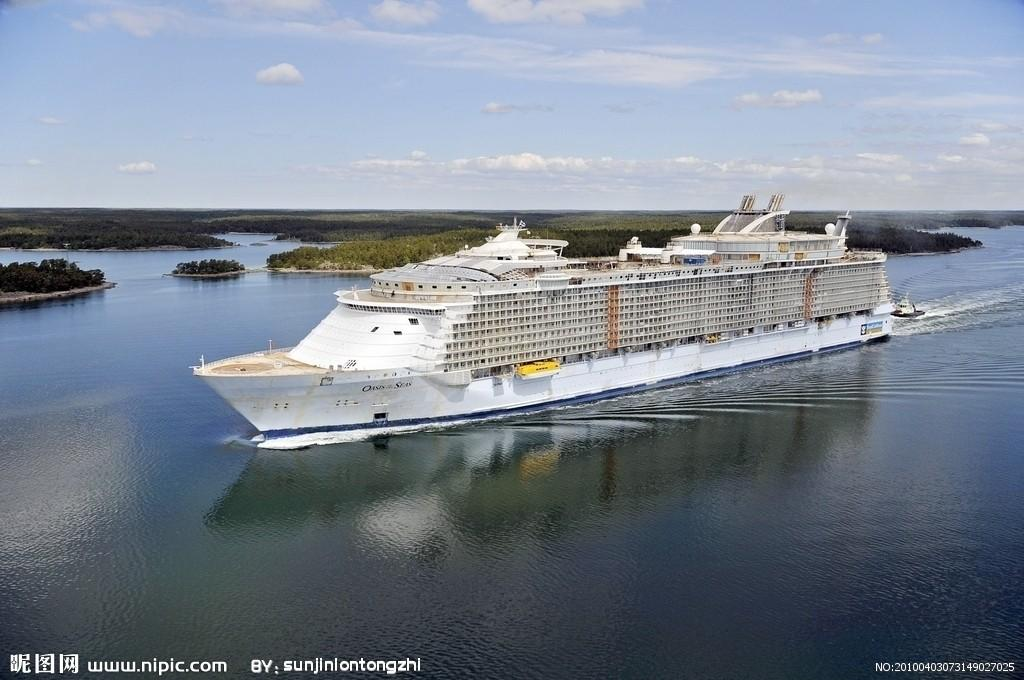otherboat: (891, 292, 933, 324)
youlun: (195, 185, 895, 450)
